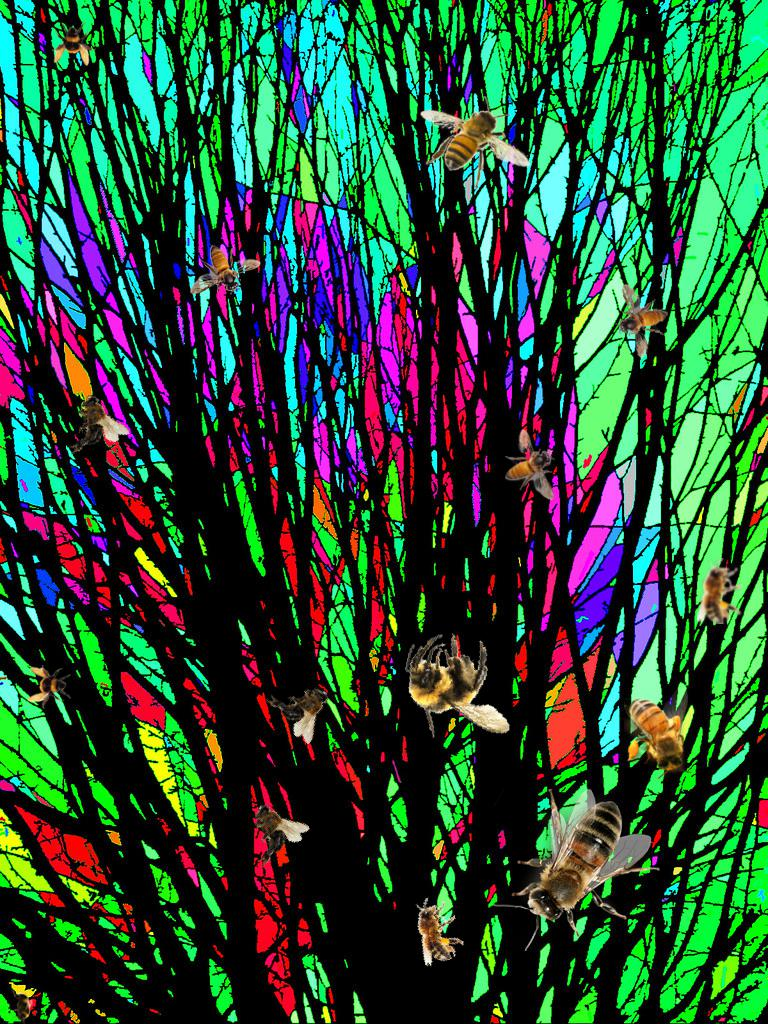Bee: (493, 789, 660, 951), (392, 625, 527, 754), (420, 96, 531, 190), (230, 789, 313, 871), (262, 665, 345, 747), (624, 686, 692, 779), (54, 386, 131, 458), (403, 890, 469, 969), (610, 283, 672, 362), (190, 245, 261, 295), (505, 429, 555, 500), (697, 558, 742, 624), (27, 665, 71, 709), (52, 22, 96, 66), (11, 987, 33, 1024)
